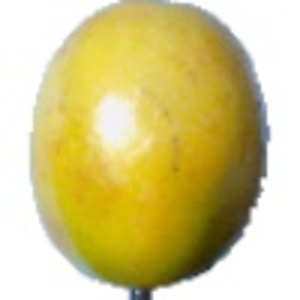maracujá: (28, 1, 273, 300)
